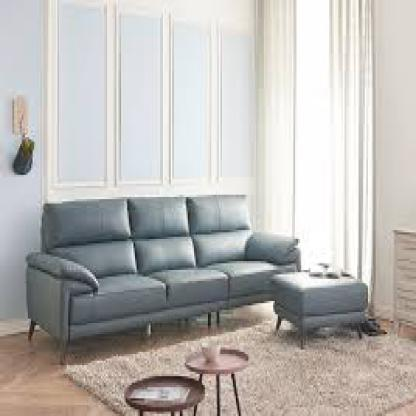sofa: (28, 201, 368, 350)
